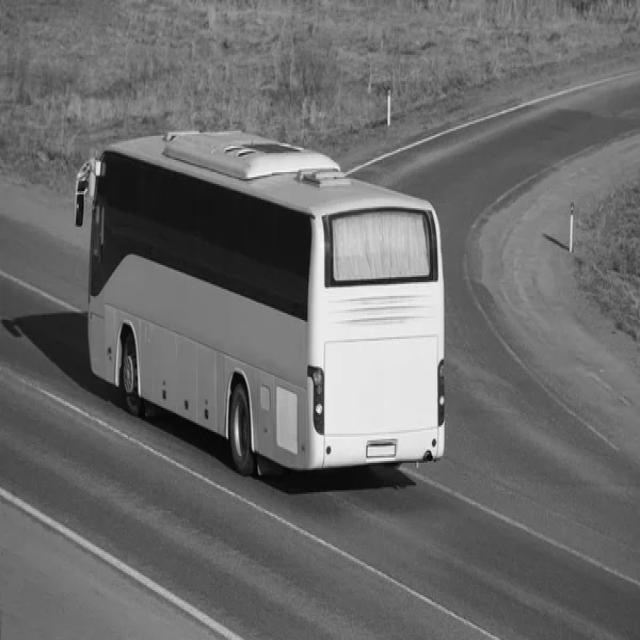Bus: (76, 131, 447, 474)
